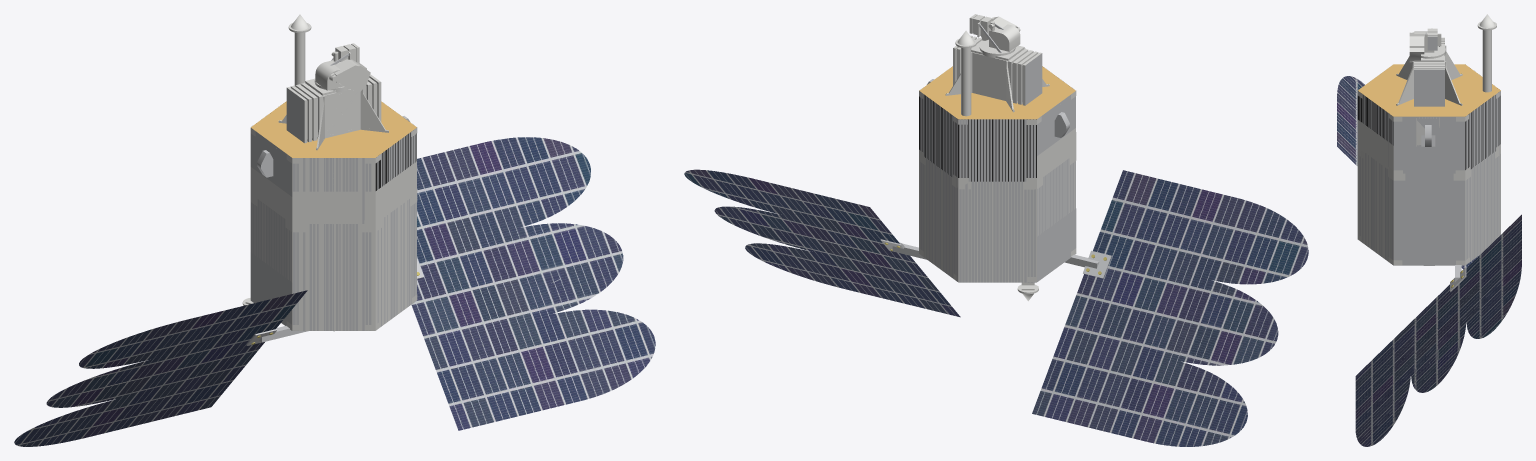
Rendered from toms-ep.glb.
3 renders of one model, left to right at view 1: azimuth 30°, elevation 25°; view 2: azimuth 150°, elevation 25°; view 3: azimuth 270°, elevation 25°, orthographic. The views are drawn at different scales.
Visible parts, largest first — view 1: Fake; view 2: Fake; view 3: Fake.
Boxes of the visible parts, <box> form: Fake: <box>14,14,655,446</box>; Fake: <box>684,14,1308,446</box>; Fake: <box>1337,14,1521,446</box>.
Bounding box in the file's own units: 3.9 × 2.43 × 1.24.
Materials: 6 (1 with a texture image).
